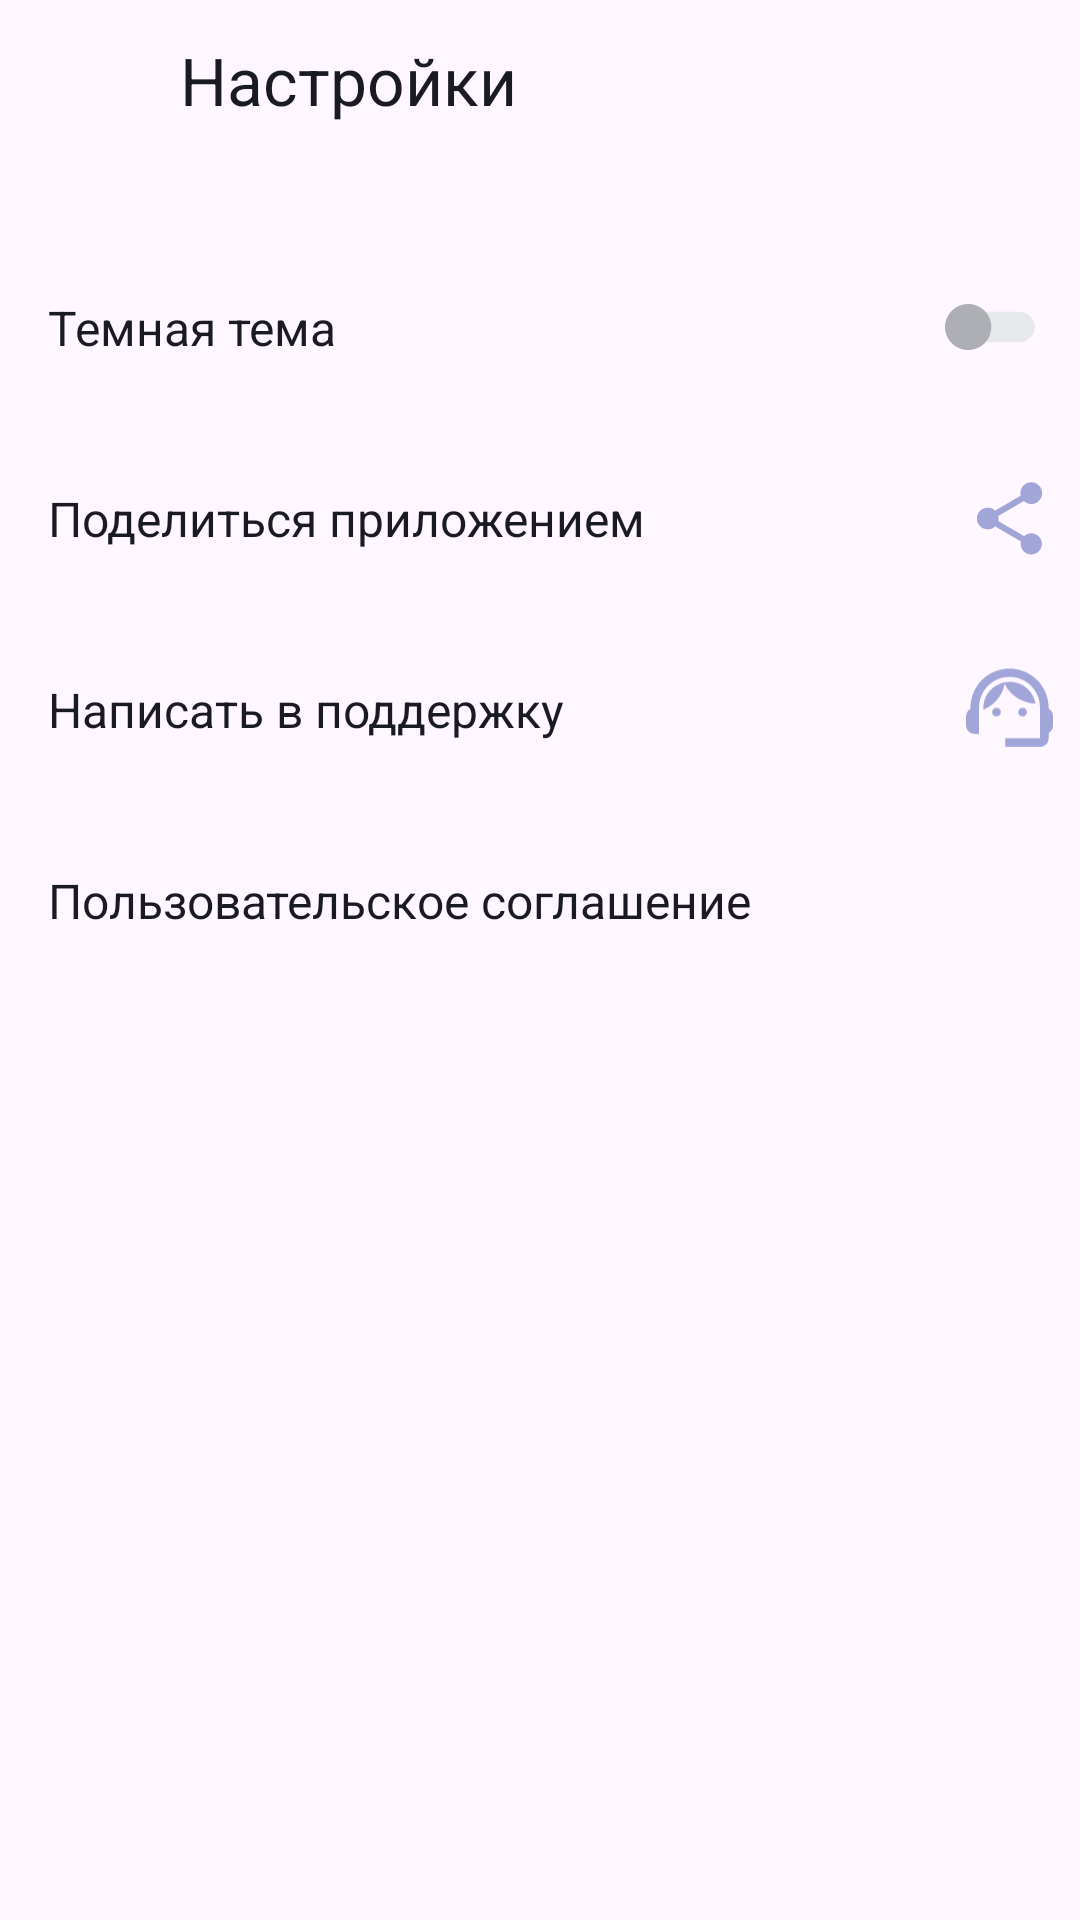

Named icons in this screenshot (1080 × 1920) and their bounding boxes, bbox=(x1, y1, x2, y2):
share: bbox=(977, 482, 1042, 555)
support: bbox=(966, 668, 1053, 747)
